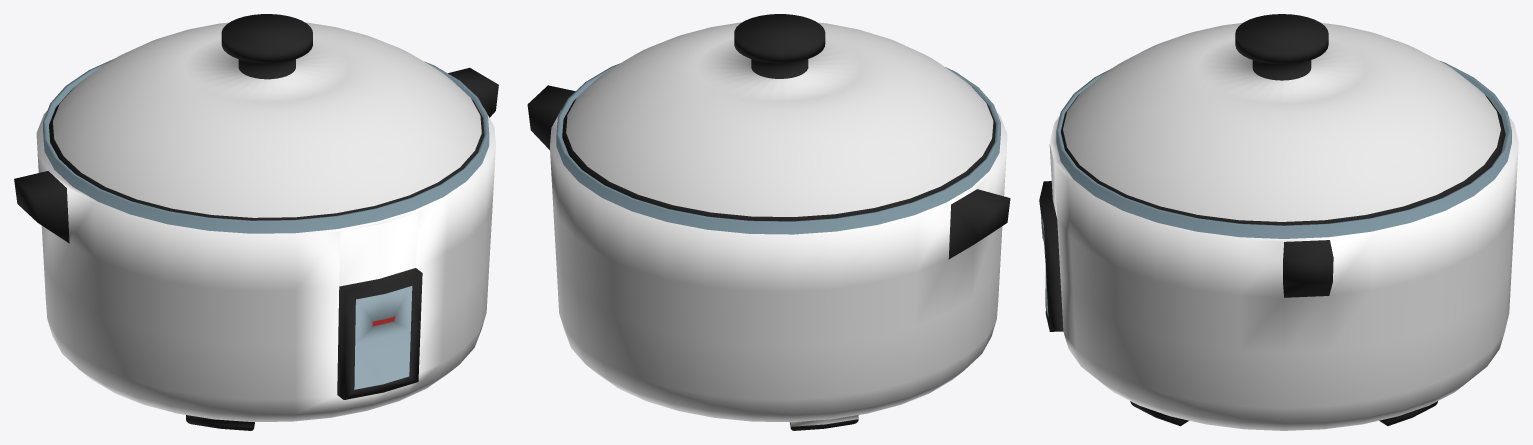
File: ricecooker.fbx
3 renders of one model, left to right at view 1: azimuth 30°, elevation 25°; view 2: azimuth 150°, elevation 25°; view 3: azimuth 270°, elevation 25°, orthographic. The views are drawn at different scales.
Parts seen in each view (by area): view 1: ricecooker1, ricecooker2; view 2: ricecooker1, ricecooker2; view 3: ricecooker1, ricecooker2.
Boxes of the visible parts, left/top/right/bottom form: ricecooker1: left=14, top=59, right=498, bottom=430; ricecooker2: left=49, top=14, right=484, bottom=220; ricecooker1: left=527, top=63, right=1010, bottom=430; ricecooker2: left=562, top=14, right=996, bottom=221; ricecooker1: left=1039, top=61, right=1518, bottom=430; ricecooker2: left=1060, top=14, right=1505, bottom=225.
Bounding box in the file's own units: 243 × 162 × 213.
